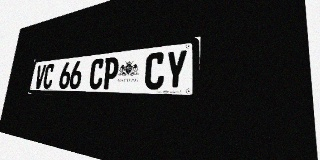6: (68, 60, 84, 89), (58, 62, 72, 89)
C: (144, 52, 166, 90), (88, 58, 105, 89), (42, 63, 55, 89)
P: (102, 57, 120, 89)
V: (34, 64, 46, 89)
Y: (164, 49, 188, 90)
